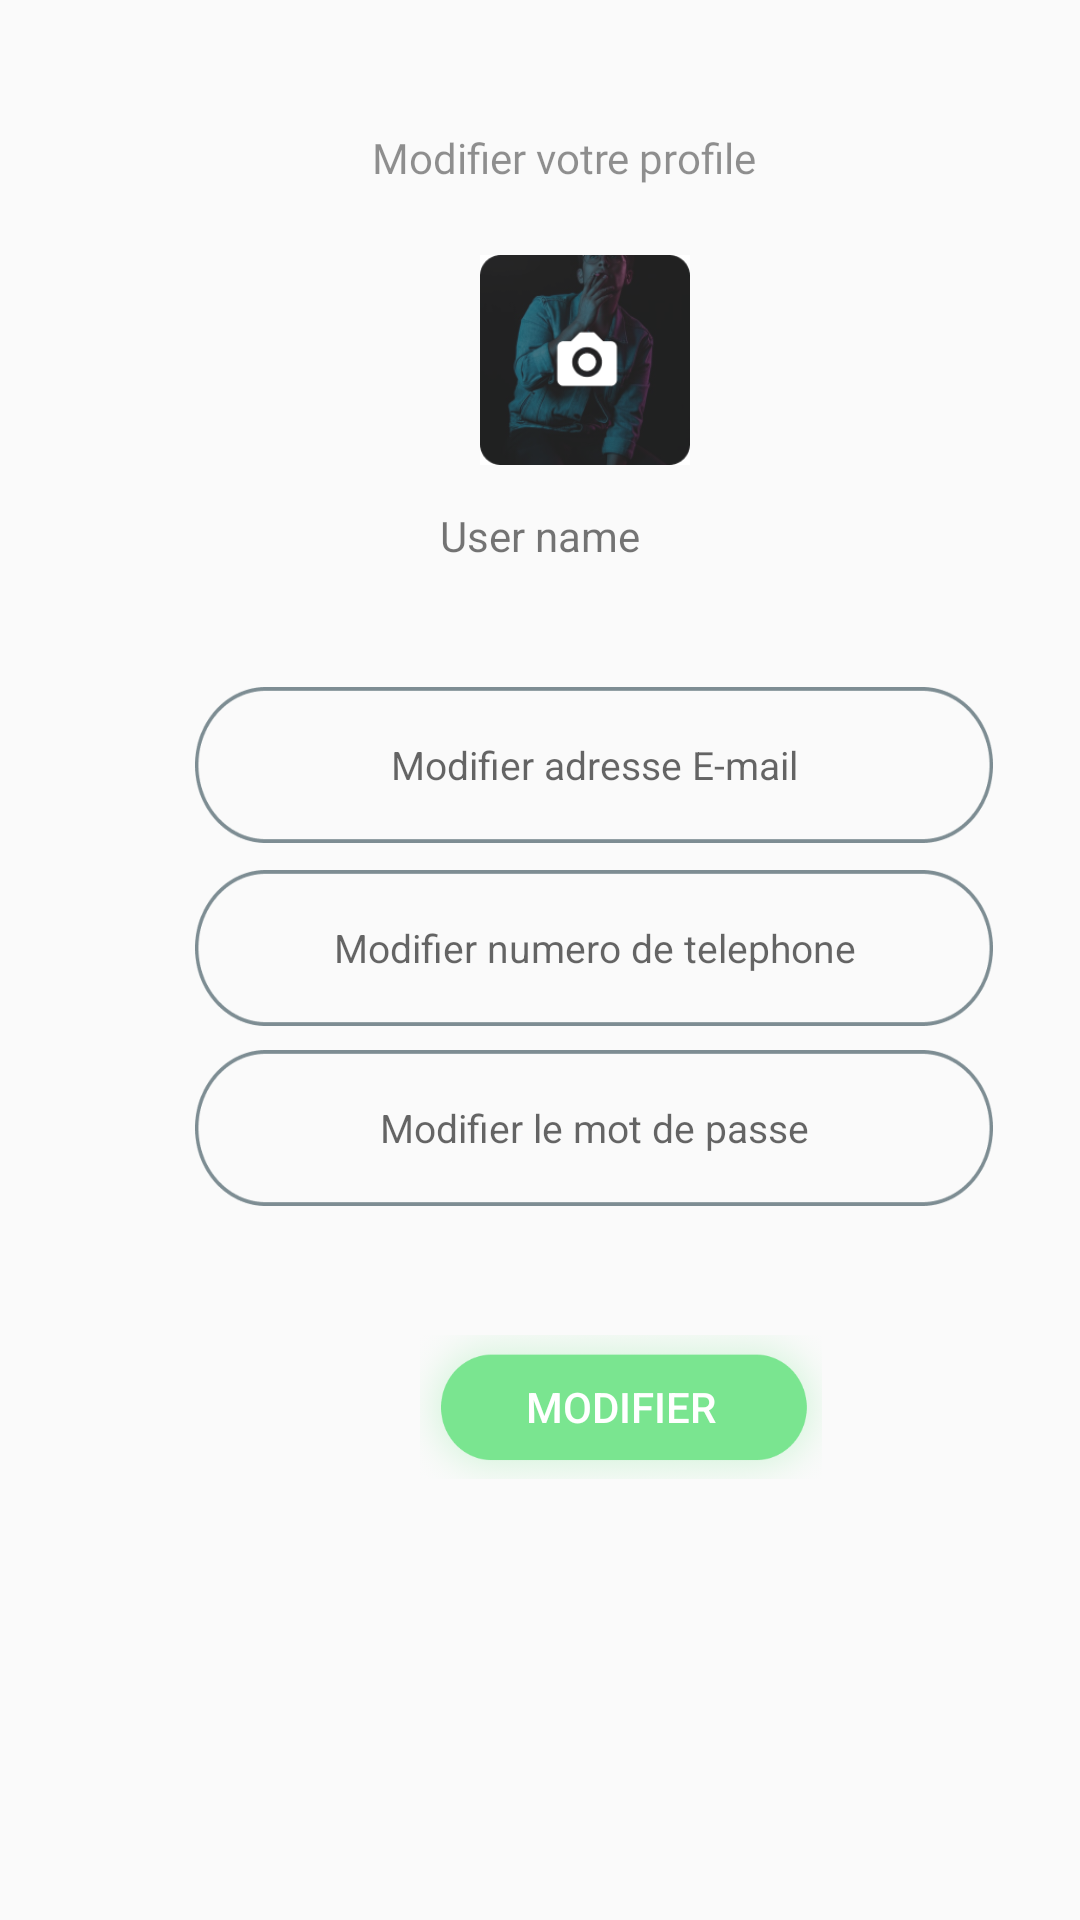

Screen size 1080x1920. Icon name, then its center in pixels as point (x, y):
photo: point (585, 360)
